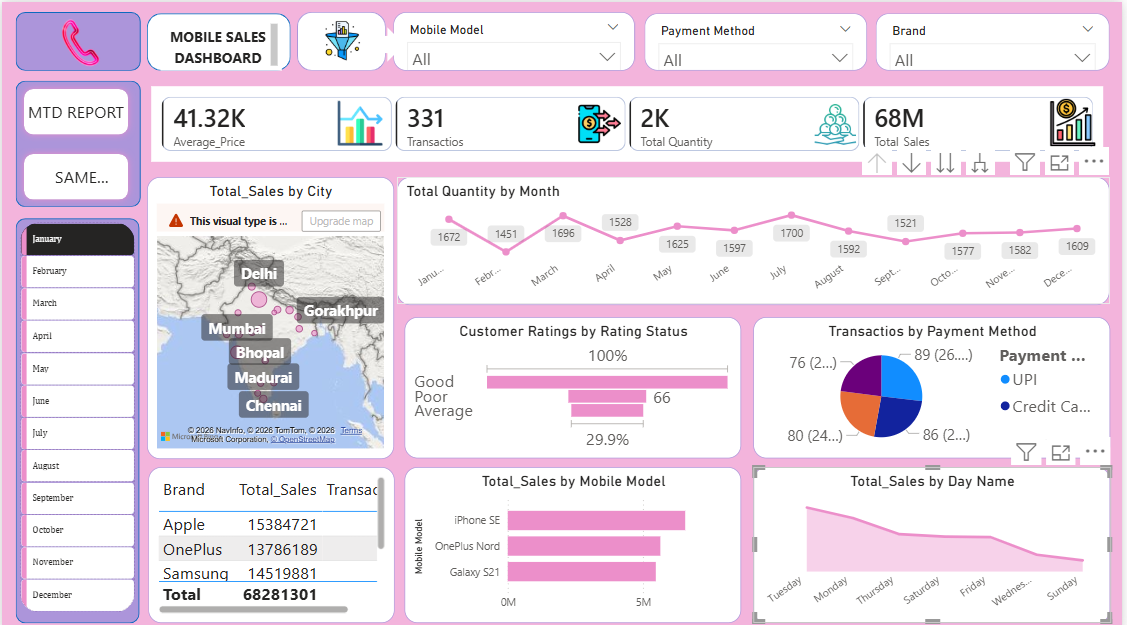

What the dashboard file says about the page in this screenshot:
{"tool":"powerbi","page":{"name":"DASHOARD","canvas":[1280,720],"ordinal":0},"visuals":[{"type":"shape","box":[15.7,11.4,142.9,67.1],"z":0},{"type":"shape","box":[15.7,90,142.9,144.3],"z":1000},{"type":"shape","box":[15.7,247.1,141.4,462.9],"z":2000},{"type":"advancedSlicerVisual","fields":{"Values":["Custom_Calender.DATE.Variation.Date Hierarchy.Month"]},"box":[15,246.7,141.7,463.3],"z":3000},{"type":"cardVisual","fields":{"Data":["Moile sales data.Average_Price","Moile sales data.Transactios","Moile sales data.Total Quantity","Moile sales data.Total_Sales"]},"box":[166,92,1100,96],"z":4000},{"type":"image","box":[1195.7,105.7,55.7,64.3],"z":5000},{"type":"image","box":[927.1,114.3,50,51.4],"z":6000},{"type":"image","box":[658.6,112.9,48.6,52.9],"z":7000},{"type":"image","box":[382.9,112.9,52.9,51.4],"z":8000},{"type":"slicer","fields":{"Values":["Moile sales data.Mobile Model"]},"box":[447.1,11.4,275.7,67.1],"z":9000},{"type":"slicer","fields":{"Values":["Moile sales data.Payment Method"]},"box":[734.3,12.9,254.3,65.7],"z":10000},{"type":"slicer","fields":{"Values":["Moile sales data.Brand"]},"box":[998.6,12.9,267.1,65.7],"z":11000},{"type":"shape","box":[337.1,11.4,101.4,67.1],"z":12000},{"type":"image","box":[342.9,20,92.9,48.6],"z":13000},{"type":"shape","box":[418.3,28.3,41.7,40],"z":14000},{"type":"shape","box":[165.7,12.9,164.3,65.7],"z":15000},{"type":"textbox","box":[181.4,20,138.6,58.6],"z":16000},{"type":"map","fields":{"Category":["Moile sales data.City"],"Size":["Moile sales data.Total_Sales"]},"box":[166,200,282,322],"z":17000},{"type":"lineChart","fields":{"Category":["Custom_Calender.DATE.Variation.Date Hierarchy.Month","Custom_Calender.DATE.Variation.Date Hierarchy.Day"],"Y":["Moile sales data.Total Quantity"]},"box":[452,200,814,146],"z":17001},{"type":"funnel","title":"Customer Ratings by Rating Status","fields":{"Y":["CountNonNull(Moile sales data.Customer Ratings)"],"Category":["Moile sales data.Rating Status"]},"box":[460,360,385,161.7],"z":17002},{"type":"pieChart","fields":{"Y":["Moile sales data.Transactios"],"Category":["Moile sales data.Payment Method"]},"box":[858.3,360,408.3,161.7],"z":17003},{"type":"image","box":[0,0,182,92],"z":17005},{"type":"clusteredBarChart","fields":{"Y":["Moile sales data.Total_Sales"],"Category":["Moile sales data.Mobile Model"]},"box":[460,531.7,385,178.3],"z":17006},{"type":"areaChart","fields":{"Y":["Moile sales data.Total_Sales"],"Category":["Custom_Calender.Day Name"]},"box":[858.3,531.7,408.3,178.3],"z":17007},{"type":"tableEx","fields":{"Values":["Moile sales data.Brand","Moile sales data.Total_Sales","Moile sales data.Transactios"]},"box":[166.7,531.7,281.7,178.3],"z":17008},{"type":"pageNavigator","box":[16.7,91.7,135,143.3],"z":17009}]}

Visuals, with their boxes in screenshot pixels (x1, y1, x2, y2), scaled from the page's 1280x720 canvas onto the 1127x625 screenshot:
shape: x1=14, y1=10, x2=140, y2=68
shape: x1=14, y1=78, x2=140, y2=203
shape: x1=14, y1=214, x2=138, y2=616
advancedSlicerVisual - Custom_Calender.DATE.Variation.Date Hierarchy.Month: x1=13, y1=214, x2=138, y2=616
cardVisual - Moile sales data.Average_Price x Moile sales data.Transactios: x1=146, y1=80, x2=1115, y2=163
image: x1=1053, y1=92, x2=1102, y2=148
image: x1=816, y1=99, x2=860, y2=144
image: x1=580, y1=98, x2=623, y2=144
image: x1=337, y1=98, x2=384, y2=143
slicer - Moile sales data.Mobile Model: x1=394, y1=10, x2=636, y2=68
slicer - Moile sales data.Payment Method: x1=647, y1=11, x2=870, y2=68
slicer - Moile sales data.Brand: x1=879, y1=11, x2=1114, y2=68
shape: x1=297, y1=10, x2=386, y2=68
image: x1=302, y1=17, x2=384, y2=60
shape: x1=368, y1=25, x2=405, y2=59
shape: x1=146, y1=11, x2=291, y2=68
textbox: x1=160, y1=17, x2=282, y2=68
map - Moile sales data.City x Moile sales data.Total_Sales: x1=146, y1=174, x2=394, y2=453
lineChart - Custom_Calender.DATE.Variation.Date Hierarchy.Month x Custom_Calender.DATE.Variation.Date Hierarchy.Day: x1=398, y1=174, x2=1115, y2=300
"Customer Ratings by Rating Status" funnel: x1=405, y1=312, x2=744, y2=453
pieChart - Moile sales data.Transactios x Moile sales data.Payment Method: x1=756, y1=312, x2=1115, y2=453
image: x1=0, y1=0, x2=160, y2=80
clusteredBarChart - Moile sales data.Total_Sales x Moile sales data.Mobile Model: x1=405, y1=462, x2=744, y2=616
areaChart - Moile sales data.Total_Sales x Custom_Calender.Day Name: x1=756, y1=462, x2=1115, y2=616
tableEx - Moile sales data.Brand x Moile sales data.Total_Sales: x1=147, y1=462, x2=395, y2=616
pageNavigator: x1=15, y1=80, x2=134, y2=204
